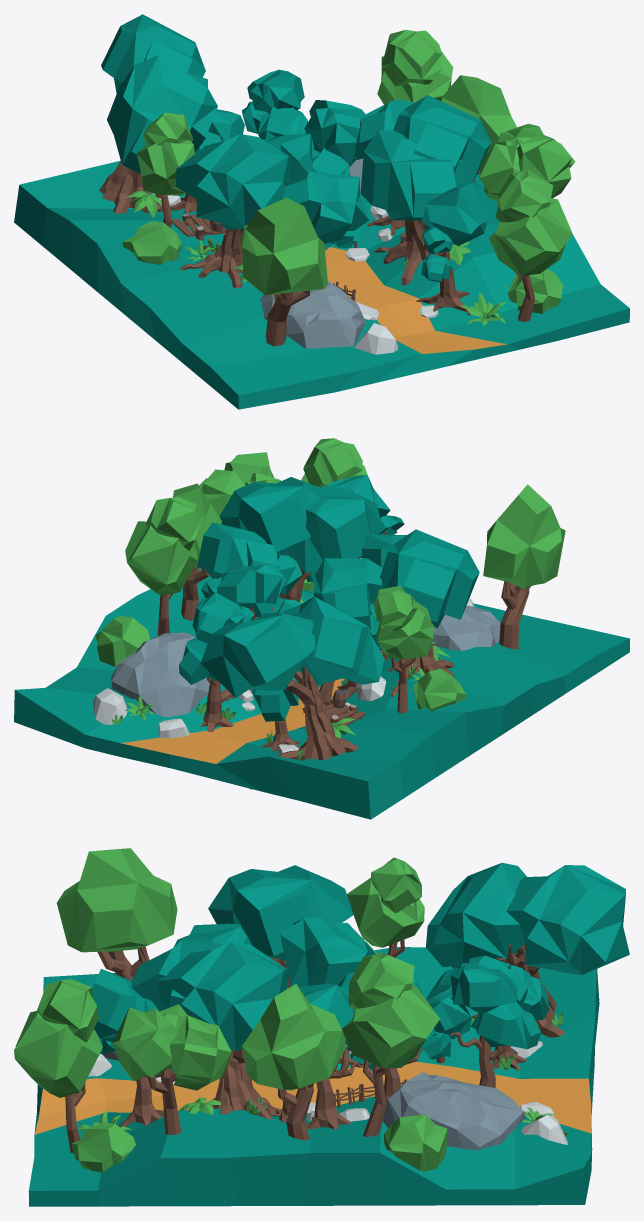
The model's file is Forest.glb.
The picture shows the model from 3 angles, top to bottom: view 1: azimuth 30°, elevation 25°; view 2: azimuth 150°, elevation 25°; view 3: azimuth 270°, elevation 25°; orthographic projection. The views are drawn at different scales.
Parts seen in each view (by area): view 1: group2009401224, group403363102, group1489245576, group547813215, group313951583, group1634341855, group443772894, group2035836735, group1573540807, group561706230, group624080166, group734284808 (+20 smaller); view 2: group2009401224, group403363102, group624080166, group1489245576, group2035836735, group547813215, group1922369548, group443772894, group1634341855, group506122935, group1180255365, group1890178627 (+20 smaller); view 3: group2009401224, group403363102, group624080166, group2035836735, group1045676722, group443772894, group1573540807, group313951583, group1489245576, group547813215, group1922369548, group506122935 (+18 smaller).
Part boxes in pixels (box(x1,y1,x2,y2)): group2009401224: box(14, 105, 629, 409); group403363102: box(241, 197, 327, 346); group1489245576: box(176, 134, 291, 229); group547813215: box(107, 55, 217, 174); group313951583: box(488, 170, 572, 321); group1634341855: box(360, 130, 465, 220); group443772894: box(393, 95, 491, 184); group2035836735: box(377, 30, 453, 105); group1573540807: box(479, 123, 575, 201); group561706230: box(260, 281, 366, 348); group624080166: box(101, 14, 205, 93); group734284808: box(281, 171, 368, 243); group2009401224: box(14, 568, 629, 819); group403363102: box(483, 484, 565, 649); group624080166: box(200, 612, 314, 697); group1489245576: box(380, 529, 479, 627); group2035836735: box(125, 497, 201, 635); group547813215: box(281, 596, 384, 684); group1922369548: box(111, 632, 209, 717); group443772894: box(219, 477, 335, 558); group1634341855: box(289, 485, 381, 573); group506122935: box(373, 586, 434, 713); group1180255365: box(313, 558, 382, 629); group1890178627: box(197, 522, 279, 578); group2009401224: box(28, 947, 599, 1206); group403363102: box(56, 848, 177, 980); group624080166: box(506, 865, 629, 974); group2035836735: box(342, 952, 439, 1136); group1045676722: box(242, 984, 346, 1140); group443772894: box(157, 941, 287, 1050); group1573540807: box(112, 1004, 231, 1134); group313951583: box(14, 979, 102, 1153); group1489245576: box(208, 865, 353, 960); group547813215: box(426, 862, 526, 968); group1922369548: box(382, 1072, 524, 1150); group506122935: box(347, 857, 424, 957).
Bounding box in the file's own units: 16.97 × 8.18 × 20.17.
